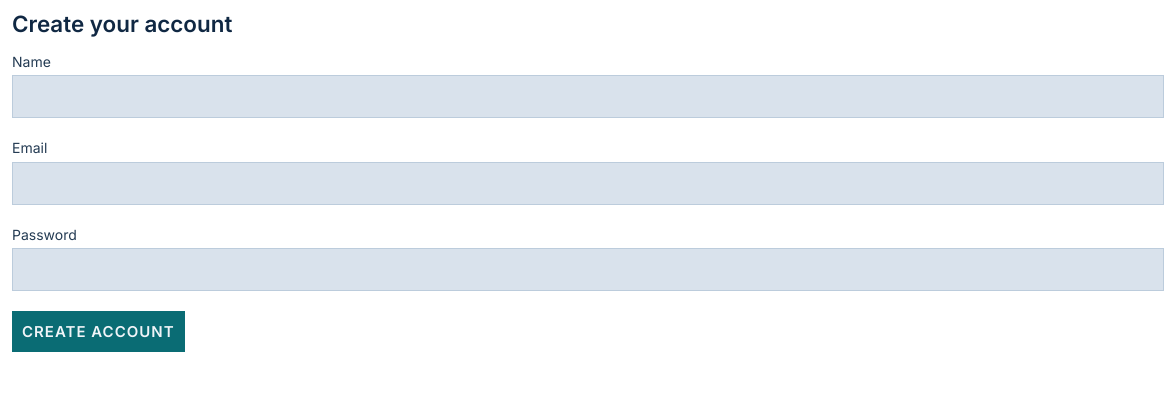
Test: Signup workflow › disables submit button when any field has an error
This screenshot has width=1176, height=401.
Type "not-an-email" into the field labelled "Email" at (588, 183), box [12,162,1164,205]
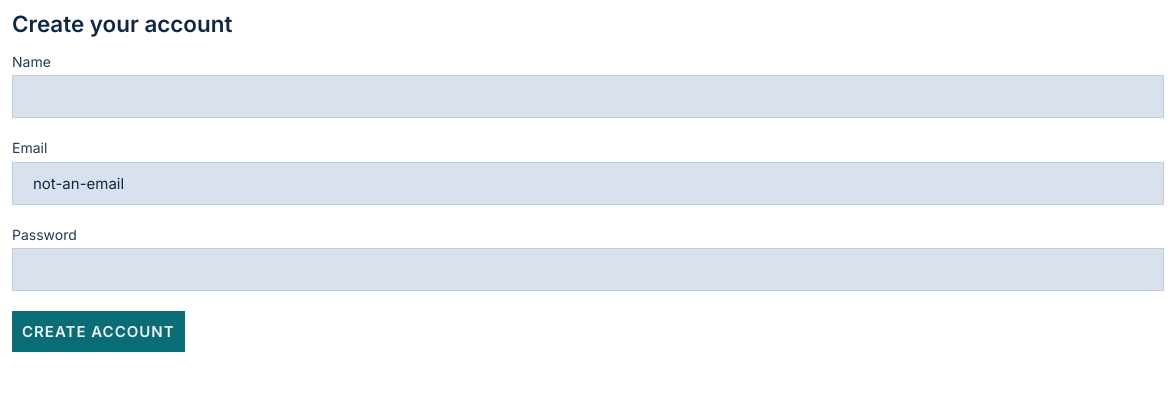
Leave the field labelled "Email", box [12,162,1164,205]
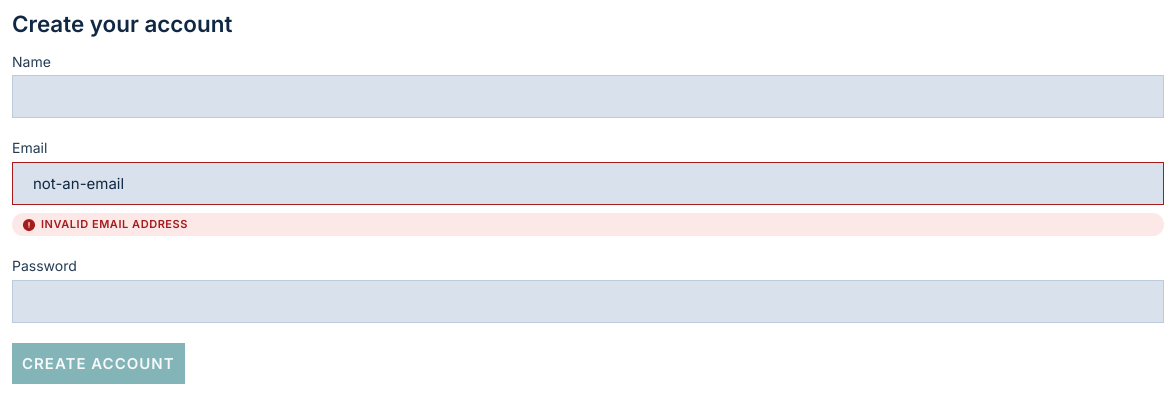
Check: the button "Create account" is disabled, box [12,343,185,384]
